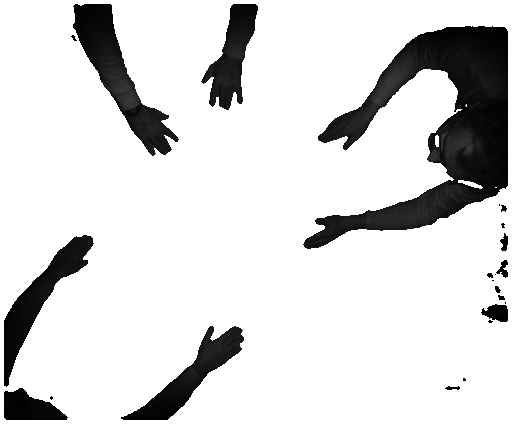hand: (131, 110, 183, 159), (199, 320, 247, 371), (200, 61, 247, 111), (49, 232, 95, 281), (312, 110, 366, 151), (296, 214, 350, 255)
